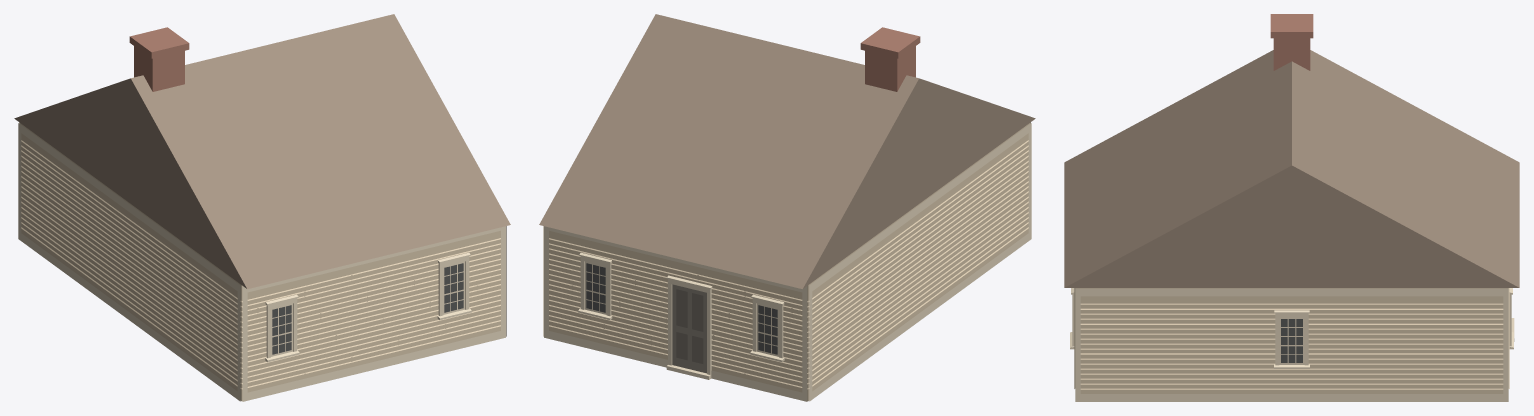
The model's file is recon_1835_blk_school_section_tier_95_d5_02__inferred_1835.glb.
The picture shows the model from 3 angles, left to right: view 1: azimuth 30°, elevation 25°; view 2: azimuth 150°, elevation 25°; view 3: azimuth 270°, elevation 25°; orthographic projection. The views are drawn at different scales.
Parts seen in each view (by area): view 1: recon_1835_blk_school_section_tier_95_d5_02__inferred_1835; view 2: recon_1835_blk_school_section_tier_95_d5_02__inferred_1835; view 3: recon_1835_blk_school_section_tier_95_d5_02__inferred_1835.
Part boxes in pixels (left/top/right/bottom): recon_1835_blk_school_section_tier_95_d5_02__inferred_1835: left=14, top=14, right=510, bottom=401; recon_1835_blk_school_section_tier_95_d5_02__inferred_1835: left=539, top=14, right=1035, bottom=401; recon_1835_blk_school_section_tier_95_d5_02__inferred_1835: left=1064, top=14, right=1519, bottom=401.
Size of the model in its own units: 7 by 6.78 by 10.49.
